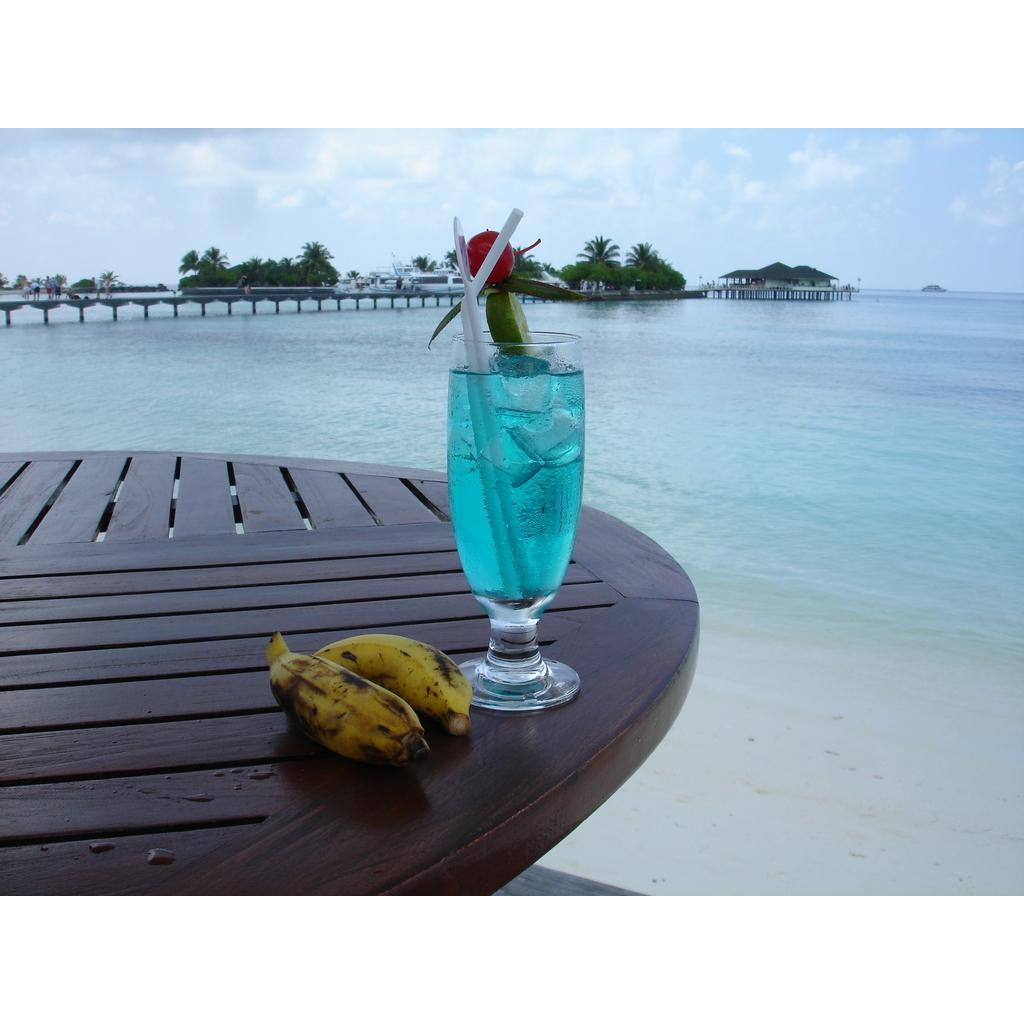banana: (265, 632, 431, 770), (315, 635, 474, 740)
